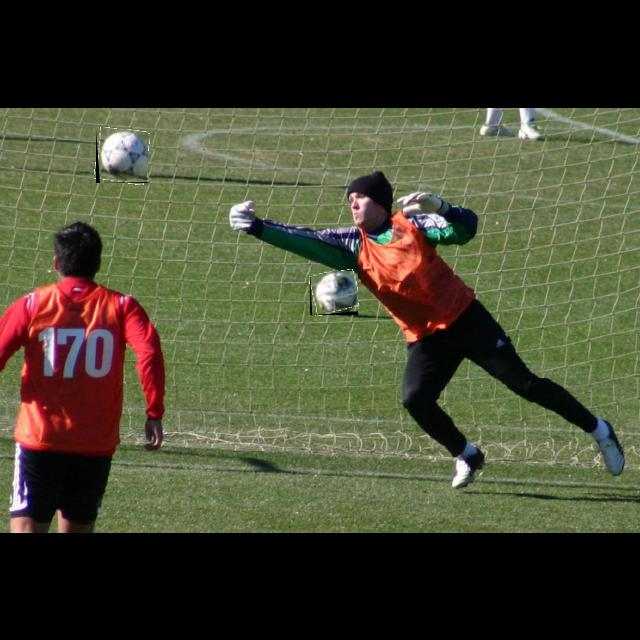Football: (96, 129, 148, 183), (310, 271, 358, 315)
